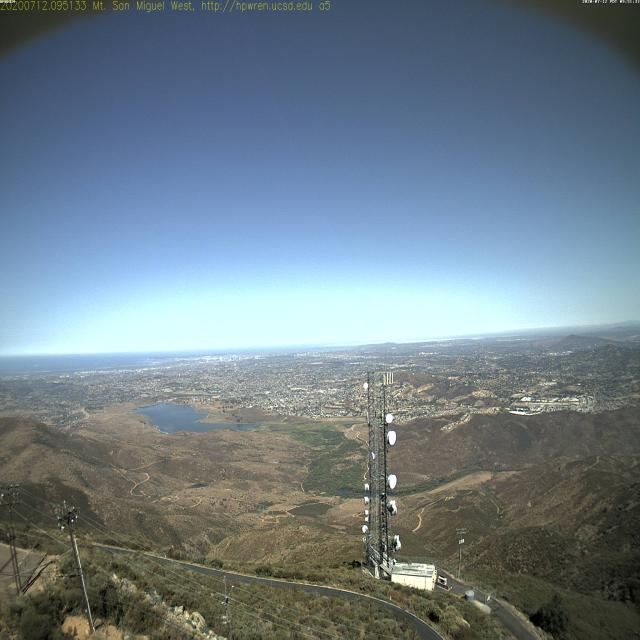smoke: (360, 338, 412, 346)
